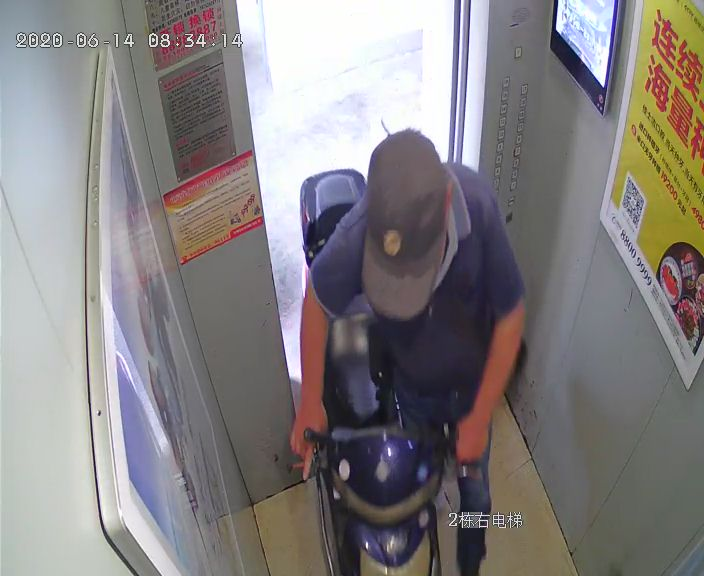Electric-bicycle: (284, 163, 457, 575)
